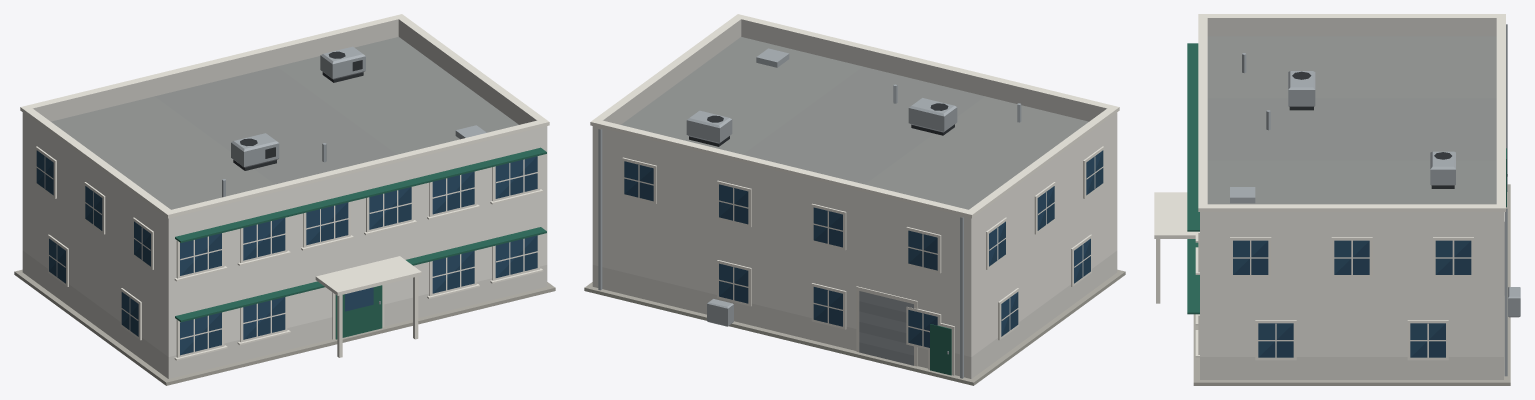
File: office_18x12_2f.glb
3 views of the same model, side by side, from view 1: azimuth 30°, elevation 25°; view 2: azimuth 150°, elevation 25°; view 3: azimuth 270°, elevation 25° (orthographic). The views are drawn at different scales.
Parts seen in each view (by area): view 1: block; view 2: block; view 3: block.
Part boxes in pixels (<box>): block: <box>14,14,555,385</box>; block: <box>584,14,1125,385</box>; block: <box>1154,14,1520,385</box>.
Bounding box in the file's own units: 18.5 × 7.85 × 14.45.
